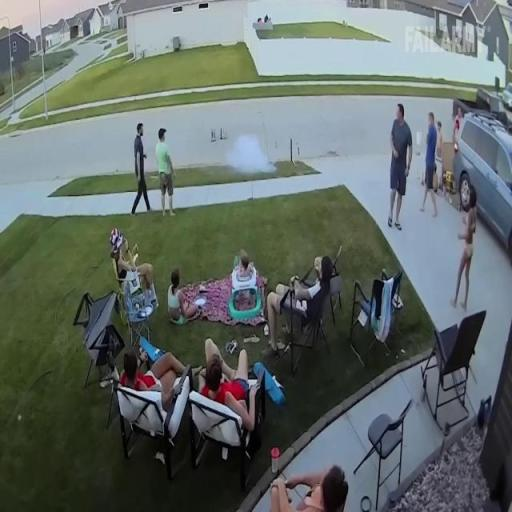Fall: (166, 265, 203, 324)
